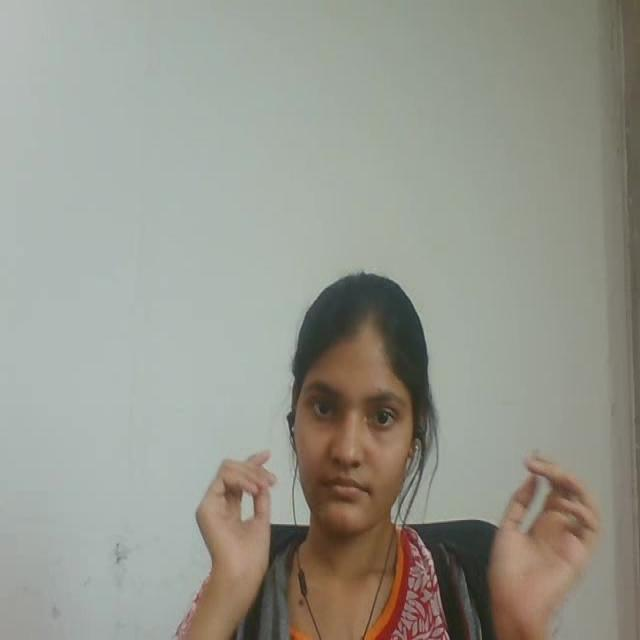Engaged: (274, 254, 458, 561)
